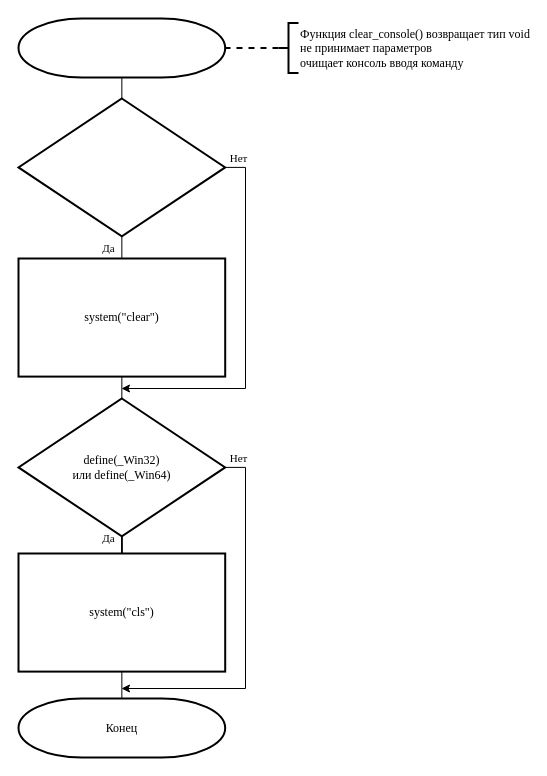
The diagram is 547 pixels wide and 776 high, and some of its shapes have lost their labels. The centre of each missing label's shape, as x and y in pixels:
"define(__linux__) или define(__unix__) или define(__apple__)" belongs at point 121,167.
"void clear_console()" belongs at point 121,47.
